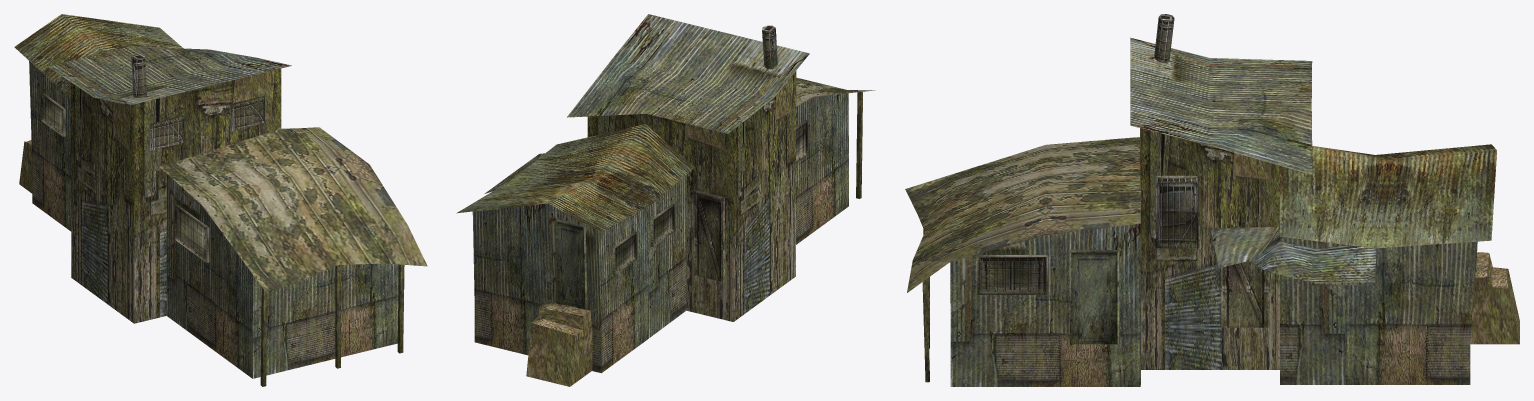
Rendered from MSlm03B.glb.
3 renders of one model, left to right at view 1: azimuth 30°, elevation 25°; view 2: azimuth 150°, elevation 25°; view 3: azimuth 270°, elevation 25°, orthographic. The views are drawn at different scales.
Visible parts, largest first — view 1: _MSlm03B; view 2: _MSlm03B; view 3: _MSlm03B.
Boxes of the visible parts, x1,y1,x2,y2 form: _MSlm03B: [14, 14, 427, 386]; _MSlm03B: [456, 14, 875, 386]; _MSlm03B: [905, 14, 1519, 386].
Bounding box in the file's own units: 6.06 × 6.76 × 13.34.
Materials: 1 (1 with a texture image).
